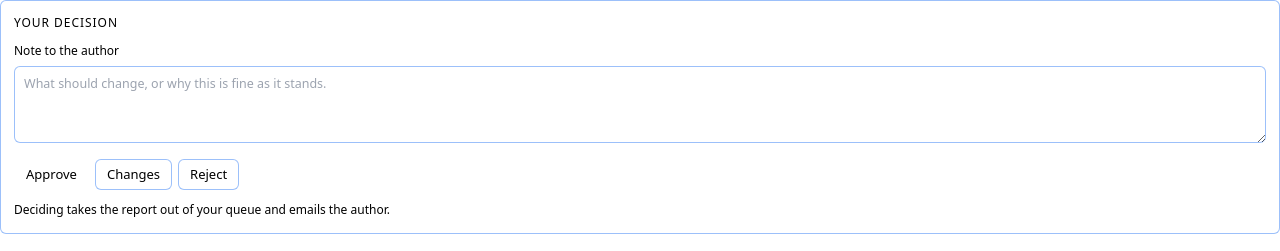
Test: ReportDecision › will not send work back without saying why, and says so in a live error
Step 1. Click the button "Changes" → (134,175), box [95,159,172,190]
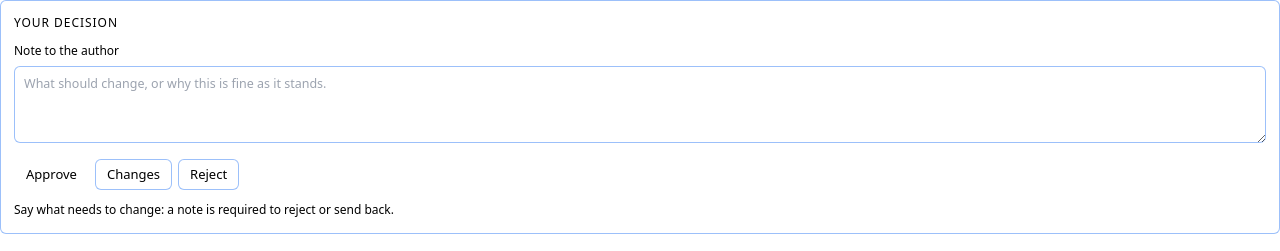
Now the message "Say what needs to change: a note is required to reject or send back." is shown, box [14,201,394,218]
